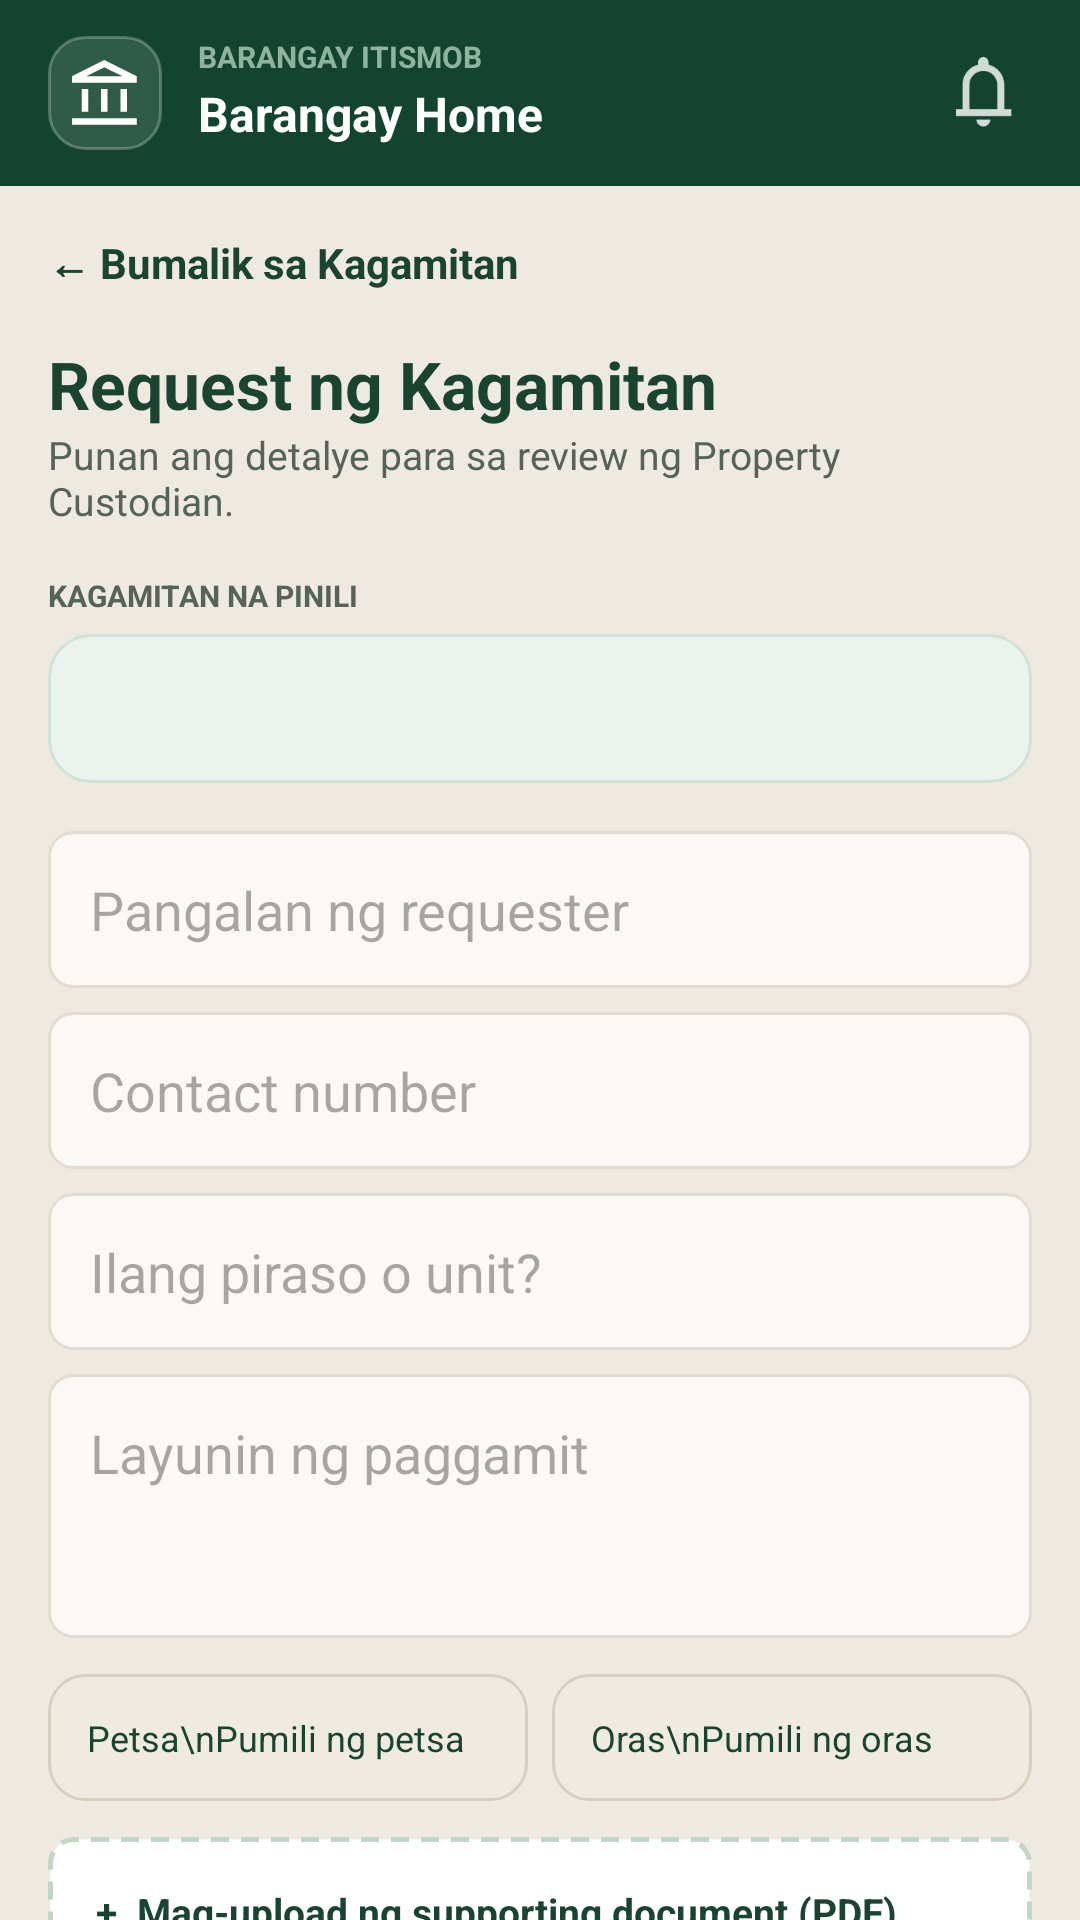

Screen size 1080px×1920px. Icon name, then its center in pixels as [x,y]:
Notifications: [984,92]
